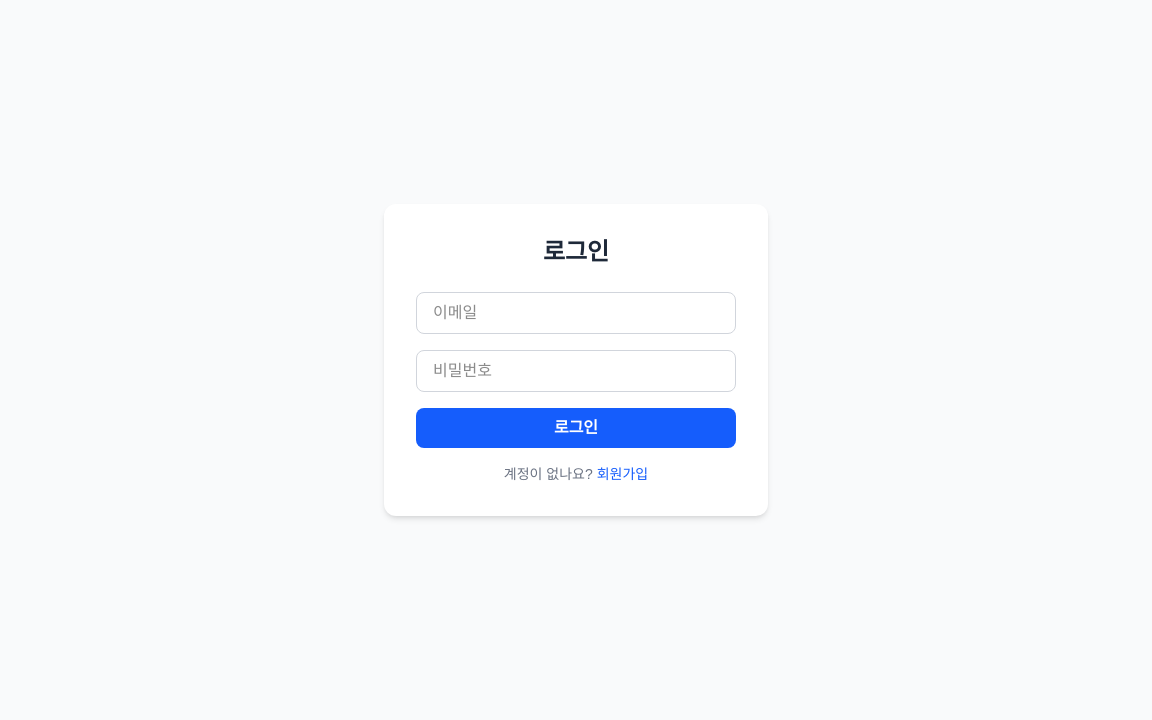
Test: LoginPage › 계정 잠금 에러 시 모달이 표시된다
The image size is (1152, 720).
Step 1. Type "test@example.com" into the field with placeholder "이메일" → (576, 313), box [416,292,736,334]
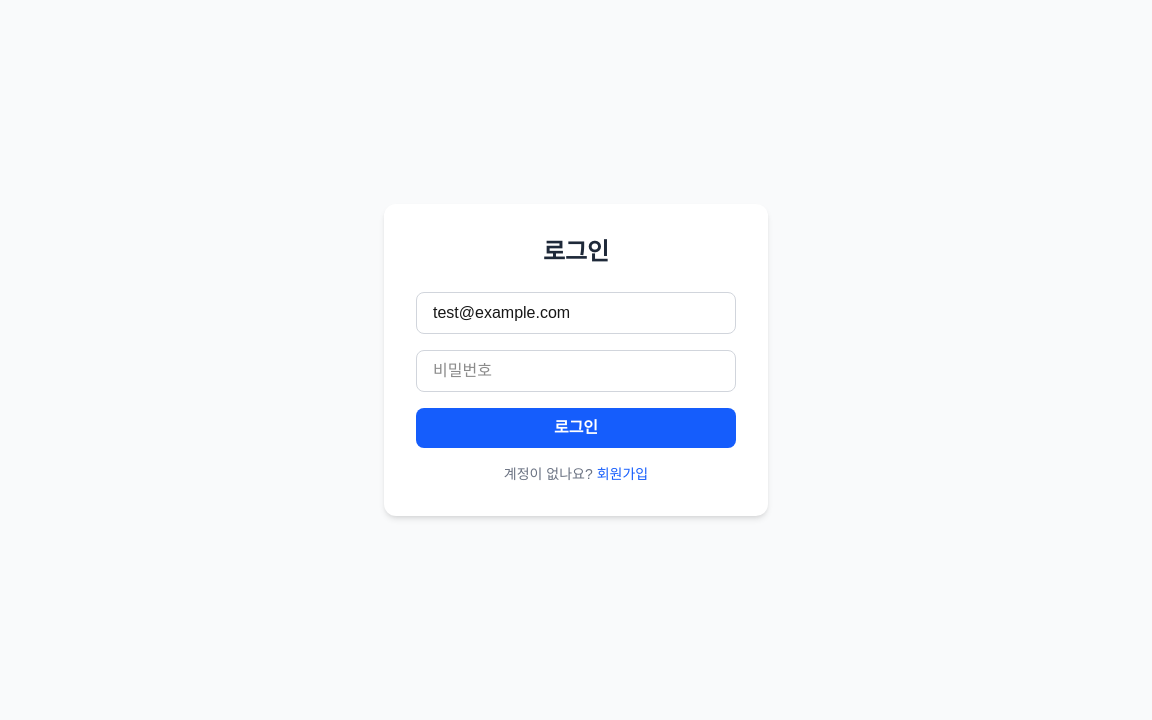
Step 2. Type "wrong" into the password field with placeholder "비밀번호" → (576, 371), box [416,350,736,392]
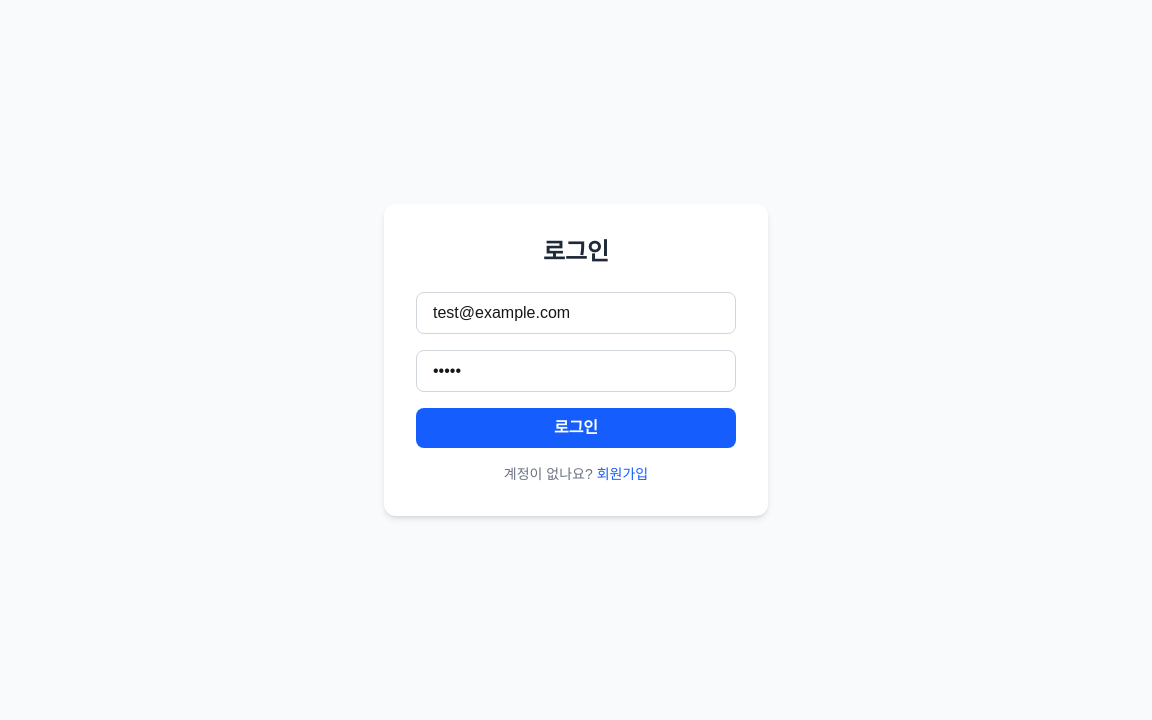
Step 3. Click the button "로그인" → (576, 428), box [416,408,736,448]
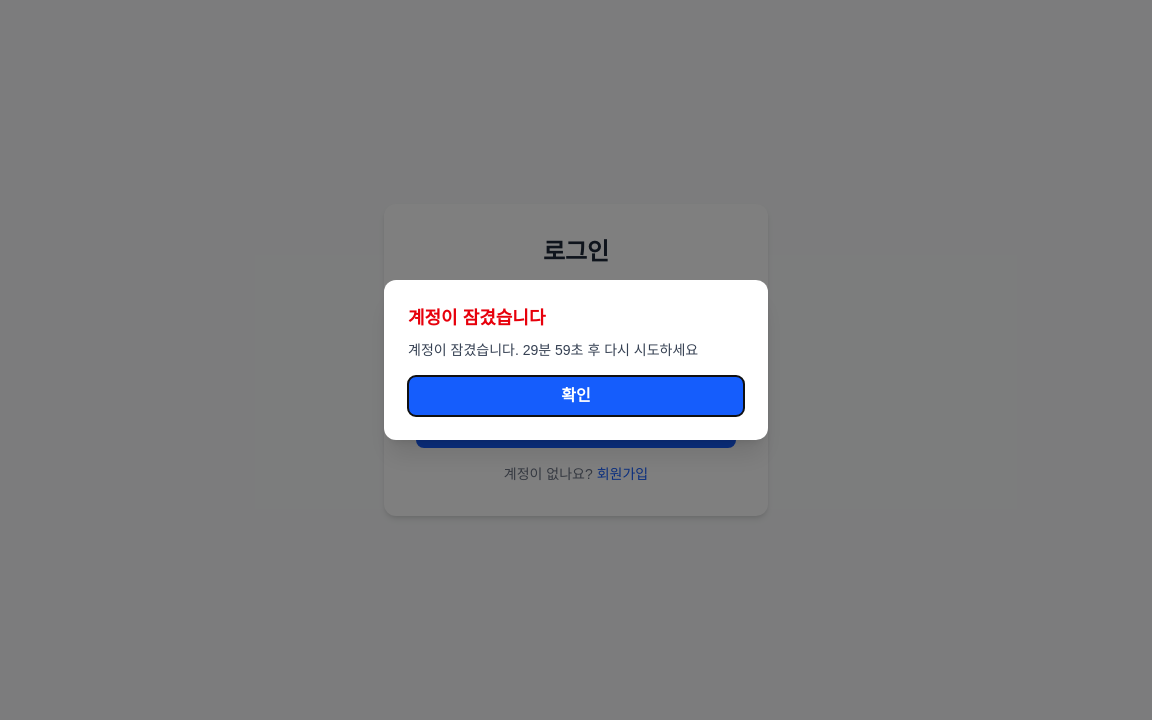
Check: the heading "계정이 잠겼습니다" is shown, box [408,308,546,328]
